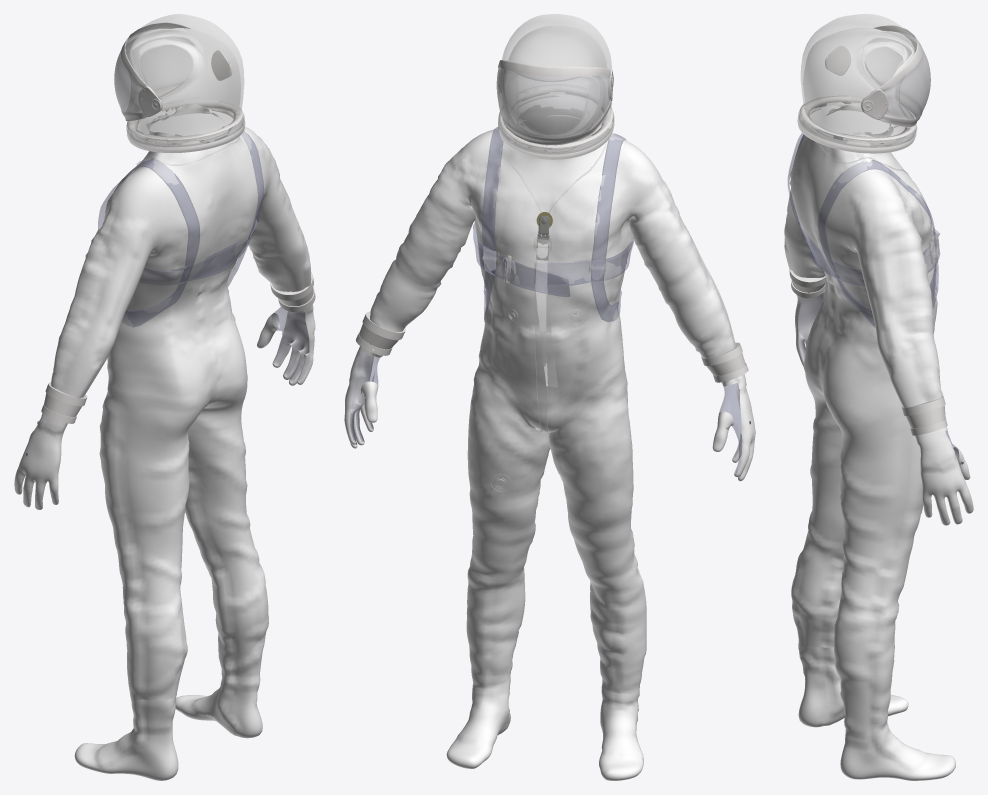
File: mercury-spacesuit.glb
3 renders of one model, left to right at view 1: azimuth 30°, elevation 25°; view 2: azimuth 150°, elevation 25°; view 3: azimuth 270°, elevation 25°, orthographic.
Visible parts, largest first — view 1: Mercury Spacesuit; view 2: Mercury Spacesuit; view 3: Mercury Spacesuit.
Boxes of the visible parts, x1,y1,x2,y2 form: Mercury Spacesuit: (14, 14, 315, 780); Mercury Spacesuit: (344, 14, 755, 780); Mercury Spacesuit: (784, 14, 973, 780).
Bounding box in the file's own units: 0.9948 × 2 × 0.4718.
Materials: 6 (6 with a texture image).
